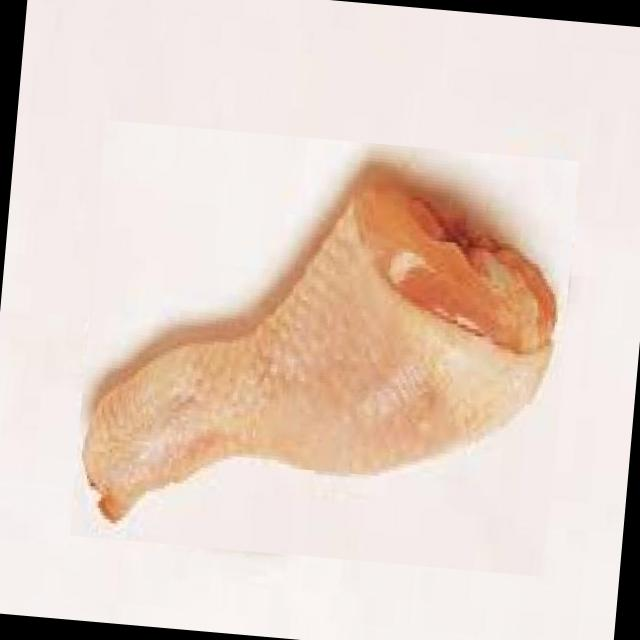chicken: (69, 119, 580, 577)
